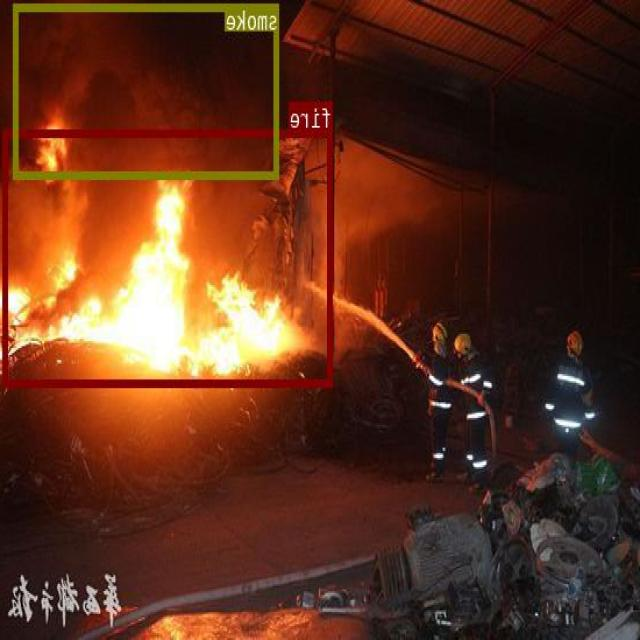fire: (5, 128, 332, 386)
smoke: (14, 2, 280, 178)
